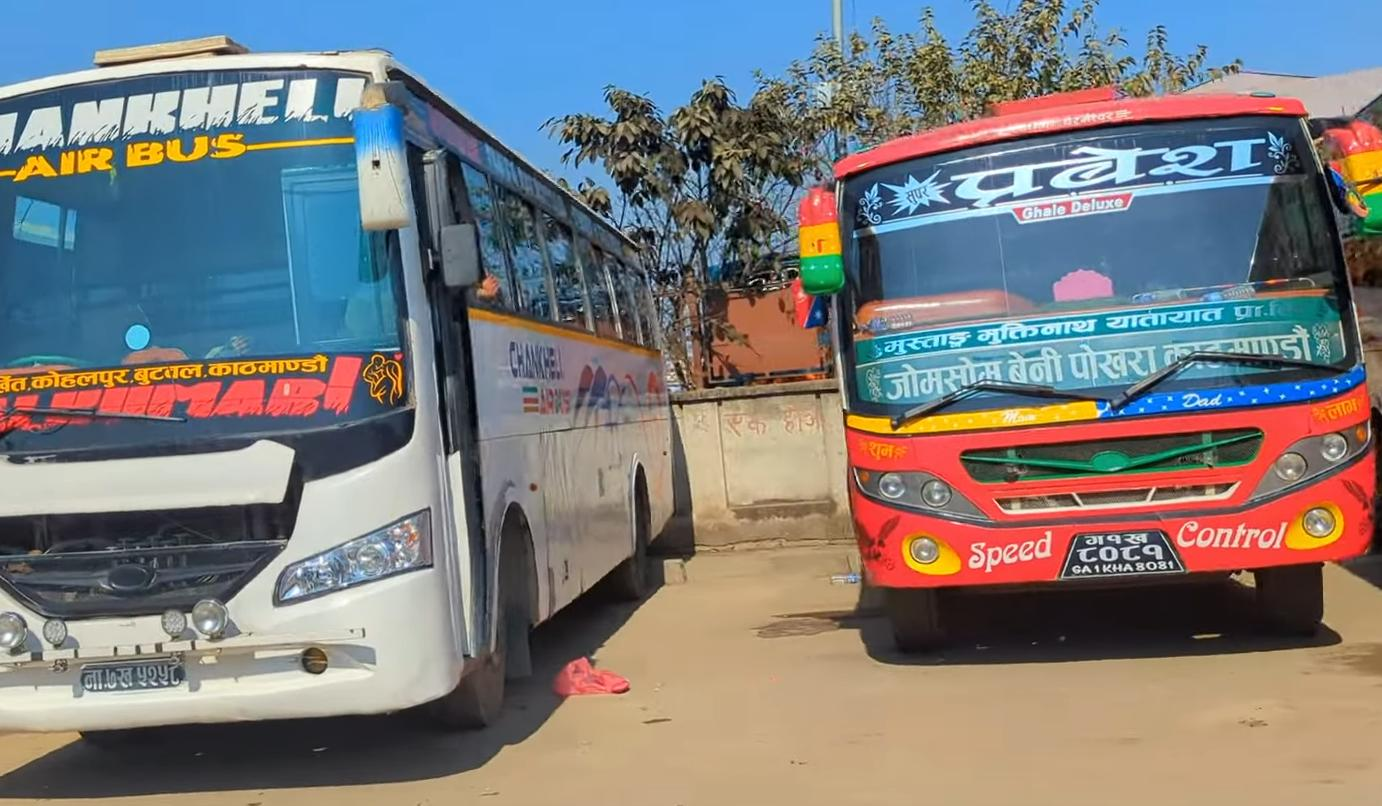bus: (0, 31, 701, 756), (790, 75, 1382, 642)
